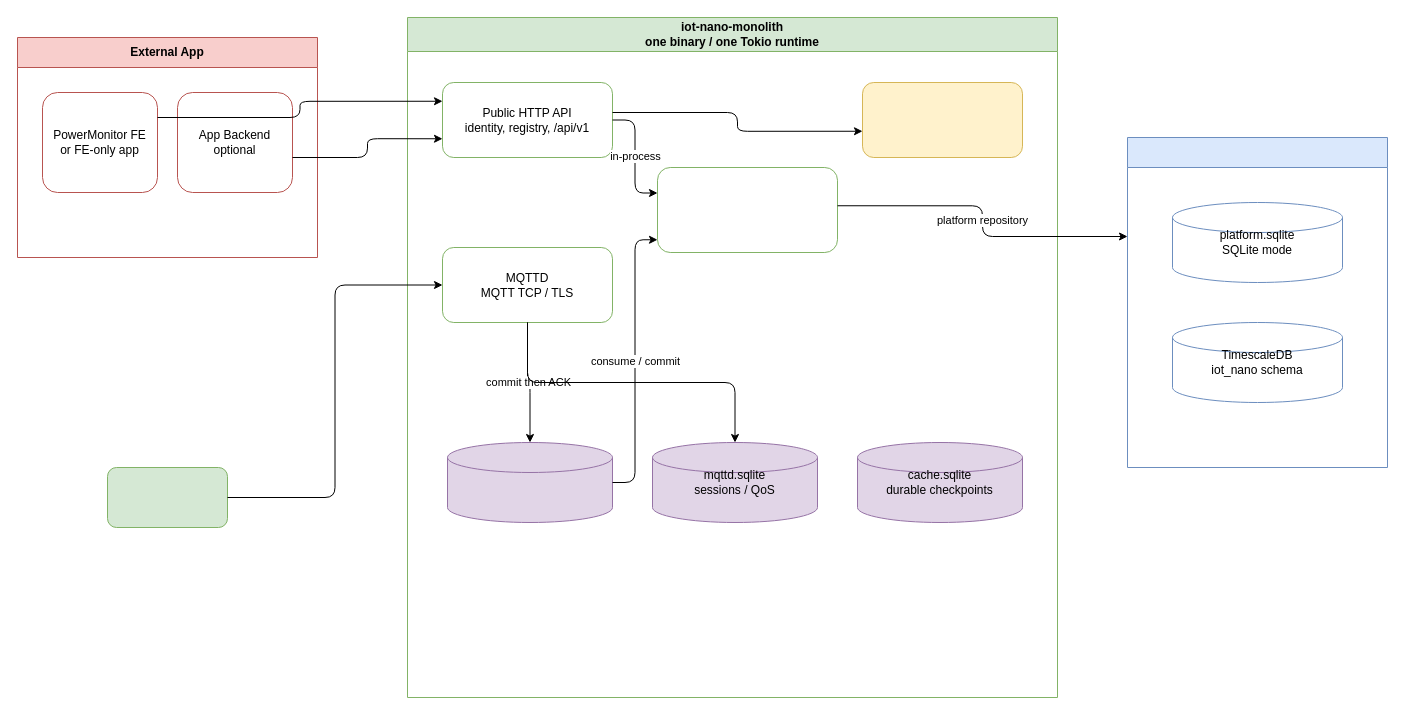
Some shapes in this 1405 by 715 pixel diagram are drawn without their labels. The box of each missing label's shape, as (x1, y1, x2, y2) in pixels:
App Registry app_id, URLs, scopes: (862, 82, 1022, 158)
CoreFacade core workers, alerts, commands: (656, 166, 838, 252)
MQTT Device: (106, 466, 228, 528)
Platform Data IOT_NANO_STORAGE: (1126, 136, 1388, 468)
stream.sqlite durable events / offsets: (446, 442, 612, 522)
